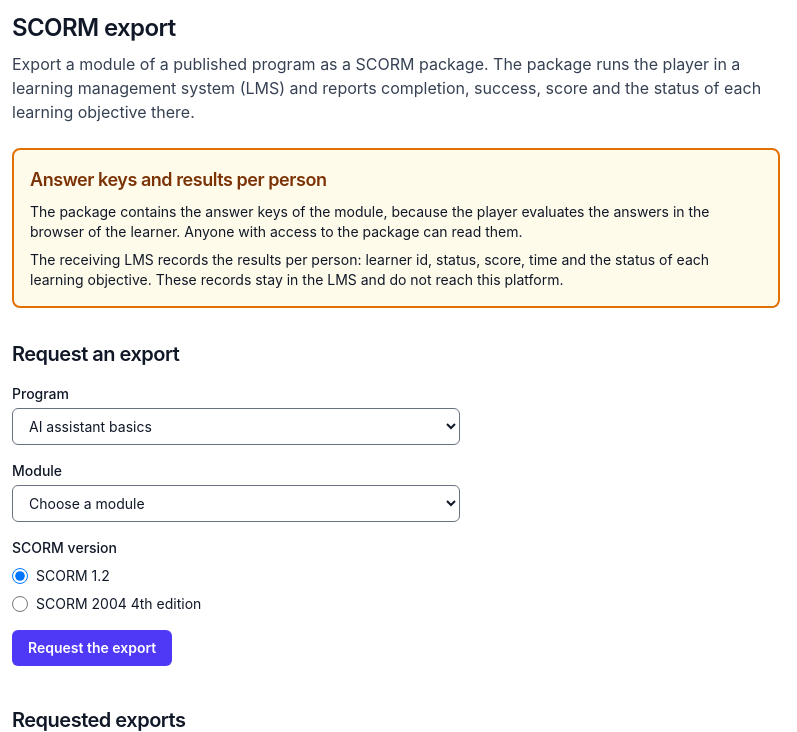
it: the form › a 422 answer shows its message
Select "1. What AI assistants do" in the dropdown labelled "Module" at (236, 504), box [12,485,460,522]
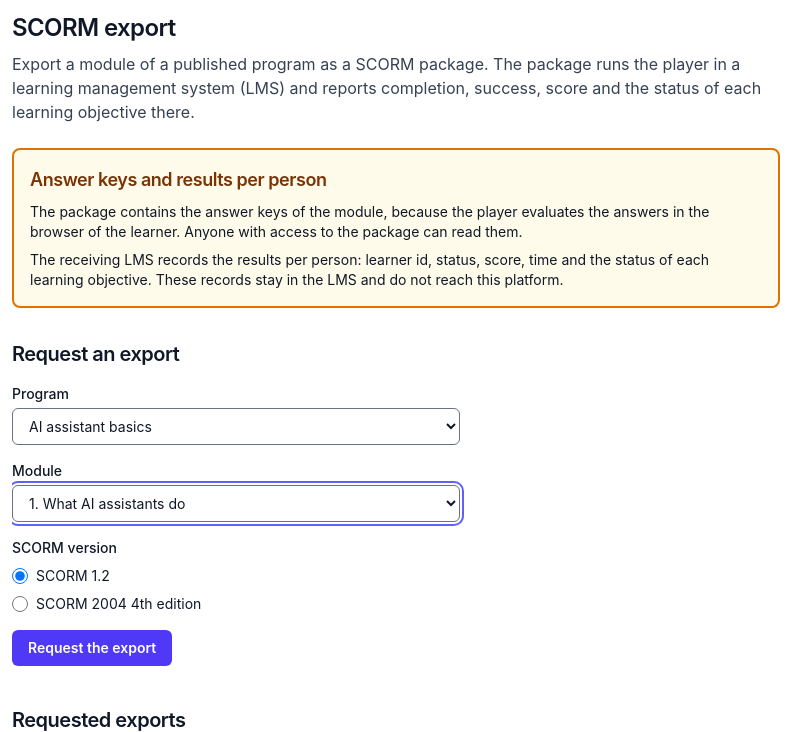
Click the radio button labelled "SCORM 1.2" at (20, 576), box [12,568,28,584]
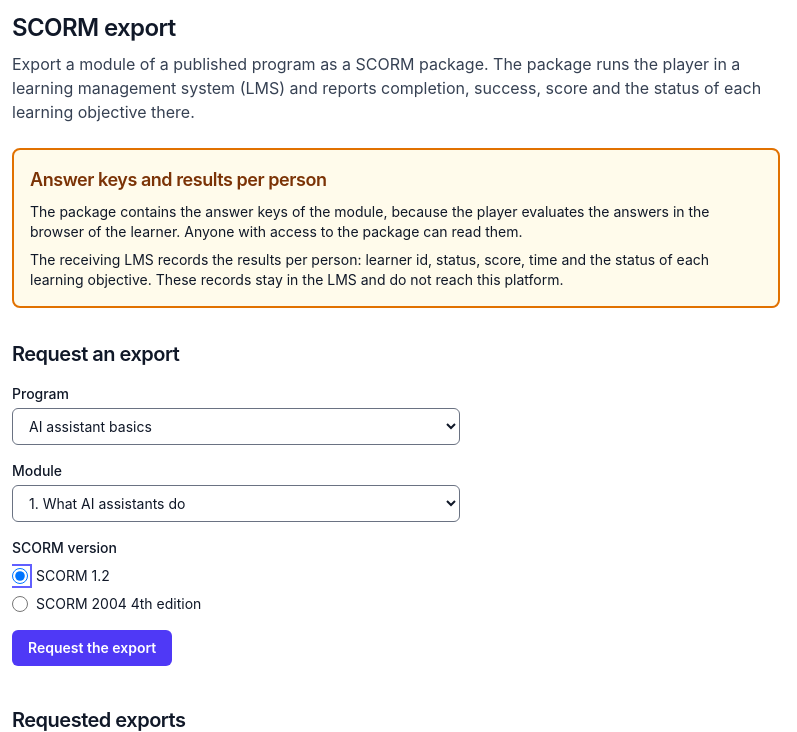
Click the button "Request the export" at (92, 648), box [12,630,172,666]
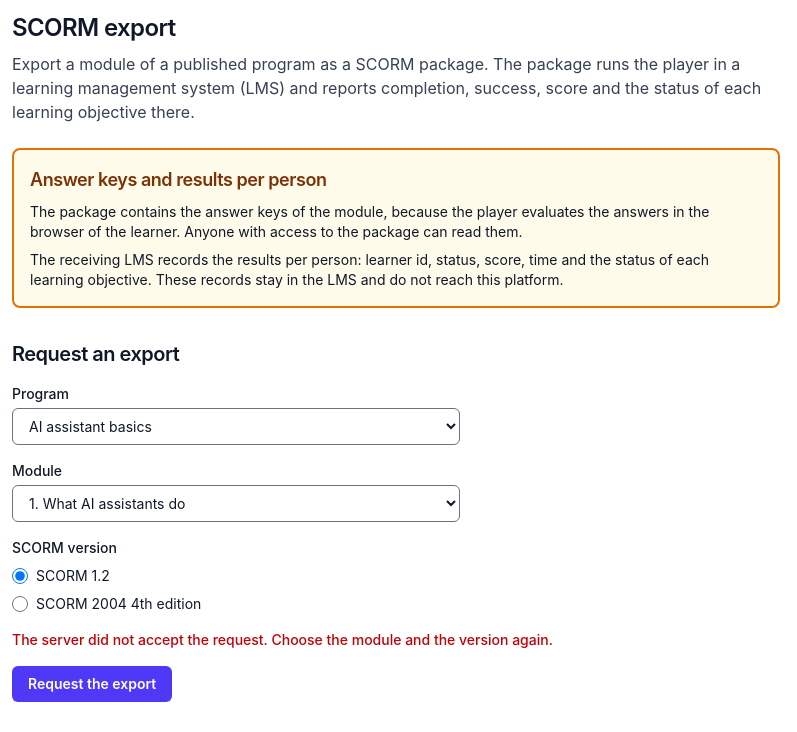
Check: the message reads "The server did not accept the request. Choose the module and the version again.", box [12,631,553,648]
